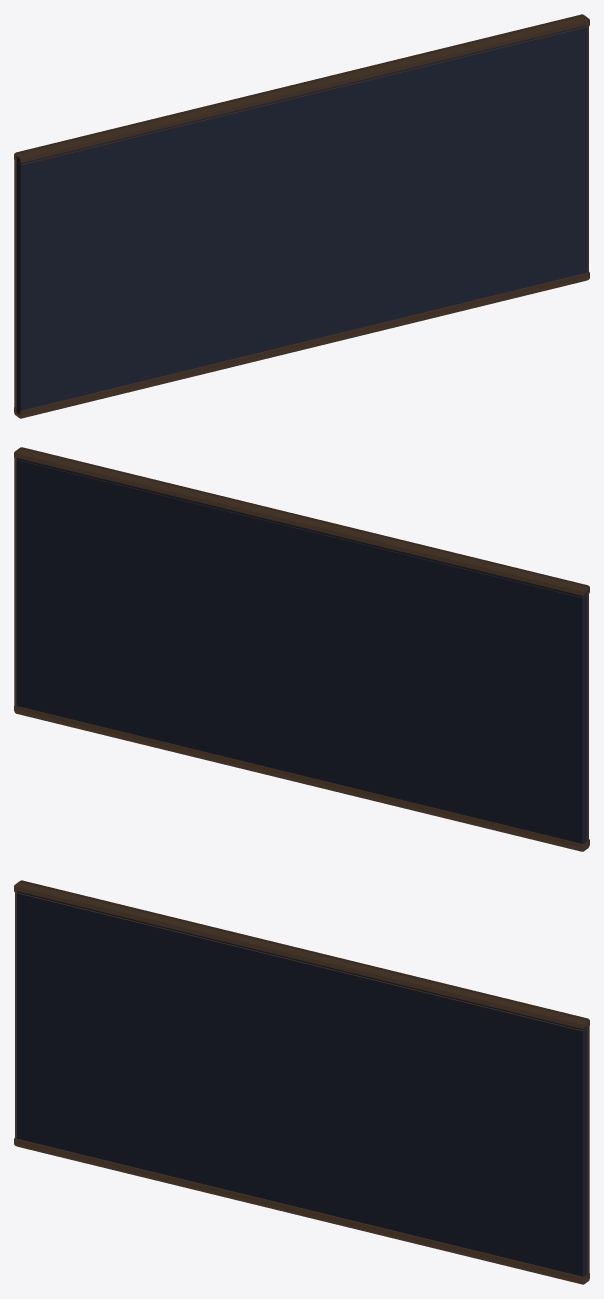
The model's file is parede-esquerda.glb.
3 renders of one model, top to bottom at view 1: azimuth 30°, elevation 25°; view 2: azimuth 150°, elevation 25°; view 3: azimuth 330°, elevation 25°, orthographic.
Visible parts, largest first — view 1: parede-esquerda, parede-esquerda_outline; view 2: parede-esquerda, parede-esquerda_outline; view 3: parede-esquerda, parede-esquerda_outline.
Part boxes in pixels (bbox=[...]): parede-esquerda: bbox=[16, 16, 587, 415]; parede-esquerda_outline: bbox=[14, 14, 589, 418]; parede-esquerda: bbox=[16, 449, 587, 848]; parede-esquerda_outline: bbox=[14, 447, 589, 851]; parede-esquerda: bbox=[16, 882, 587, 1281]; parede-esquerda_outline: bbox=[14, 880, 589, 1284].
Bounding box in the file's own units: 6.04 × 2.66 × 0.1393.
